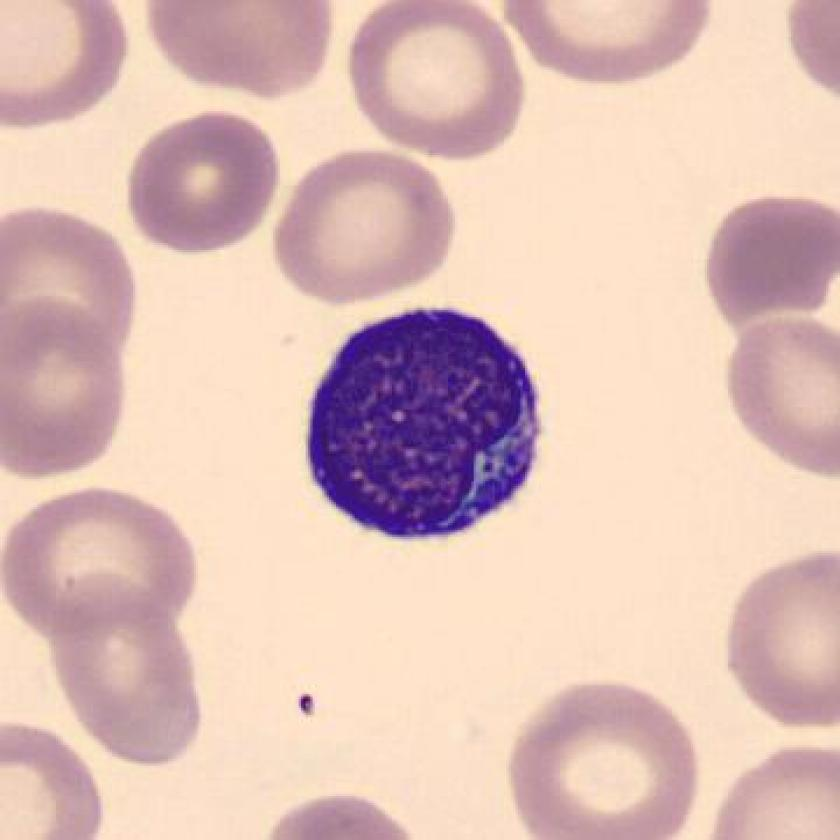lymphocyte: (293, 290, 556, 561)
